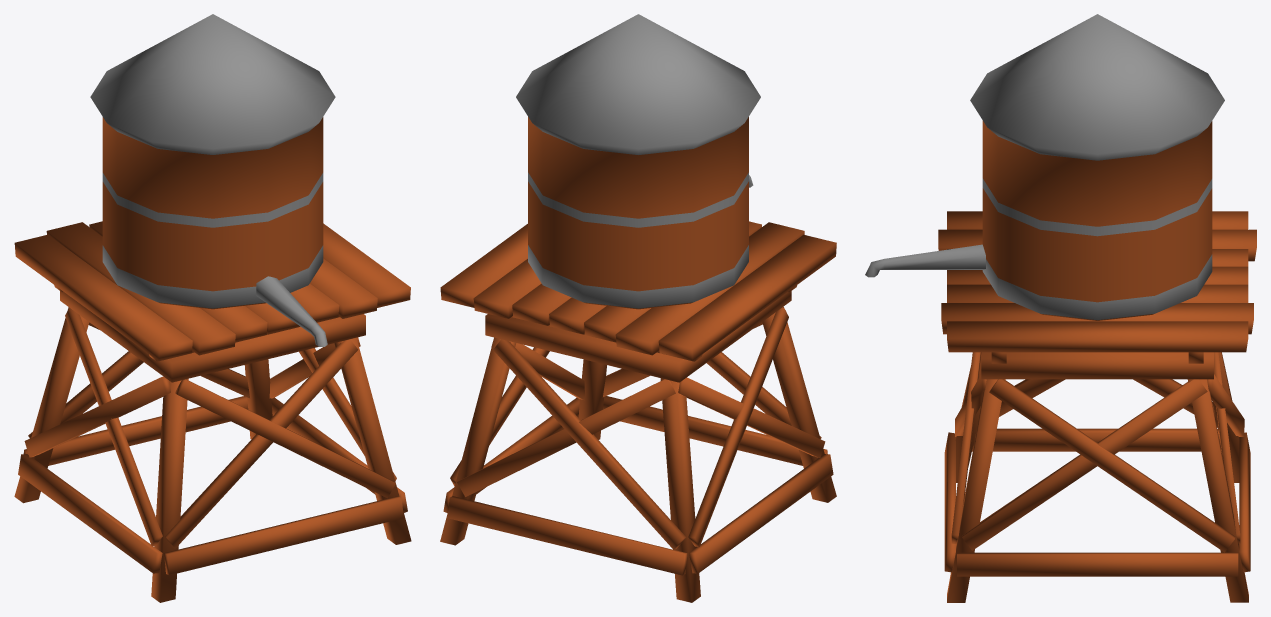
File: Western_WaterTower.fbx
The picture shows the model from 3 angles, left to right: view 1: azimuth 30°, elevation 25°; view 2: azimuth 150°, elevation 25°; view 3: azimuth 270°, elevation 25°; orthographic projection. The views are drawn at different scales.
Parts seen in each view (by area): view 1: Western_WaterTower; view 2: Western_WaterTower; view 3: Western_WaterTower.
Part boxes in pixels (x1,y1,x2,y2): Western_WaterTower: (14, 14, 411, 602); Western_WaterTower: (440, 14, 836, 602); Western_WaterTower: (865, 14, 1256, 602).
Bounding box in the file's own units: 406 × 769 × 520.
Materials: 1 (1 with a texture image).
